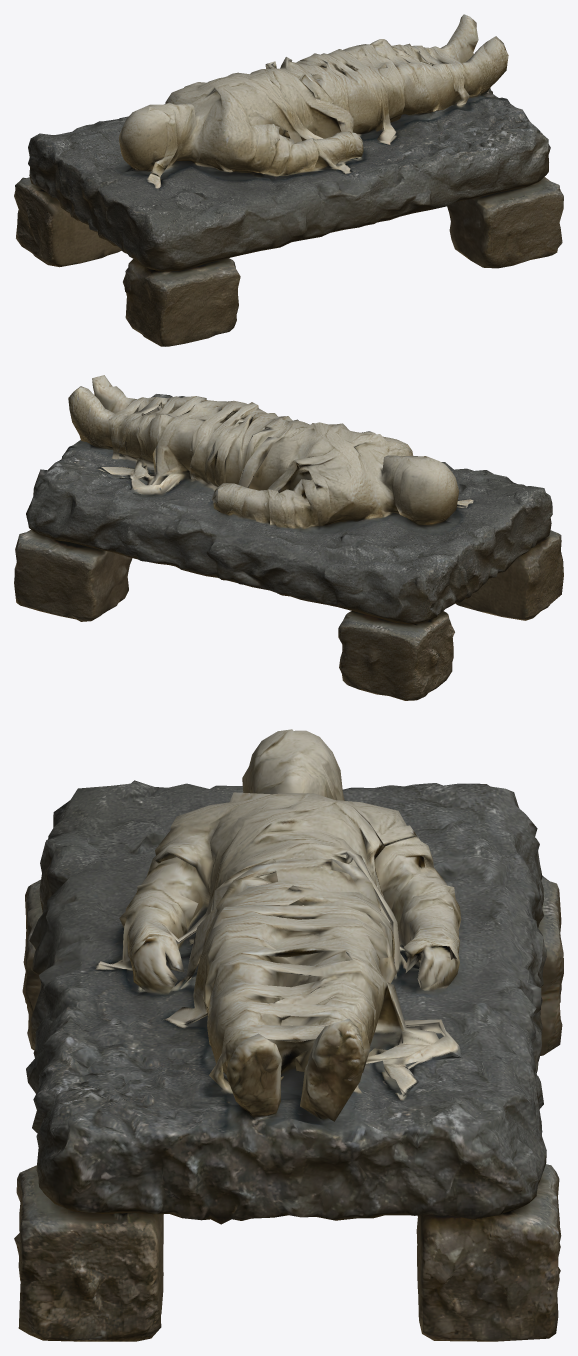
The model's file is morgue_slab.glb.
The picture shows the model from 3 angles, top to bottom: view 1: azimuth 30°, elevation 25°; view 2: azimuth 150°, elevation 25°; view 3: azimuth 270°, elevation 25°; orthographic projection. The views are drawn at different scales.
Parts seen in each view (by area): view 1: tripo_node_c2d3261c-aebc-4639-a6bf-ff8b0f146d9e; view 2: tripo_node_c2d3261c-aebc-4639-a6bf-ff8b0f146d9e; view 3: tripo_node_c2d3261c-aebc-4639-a6bf-ff8b0f146d9e.
Boxes of the visible parts, x1,y1,x2,y2 form: tripo_node_c2d3261c-aebc-4639-a6bf-ff8b0f146d9e: (14,14,563,346); tripo_node_c2d3261c-aebc-4639-a6bf-ff8b0f146d9e: (14,375,563,700); tripo_node_c2d3261c-aebc-4639-a6bf-ff8b0f146d9e: (14,729,563,1341).
Size of the model in its own units: 1 by 0.4225 by 0.6417.
Materials: 1 (1 with a texture image).
